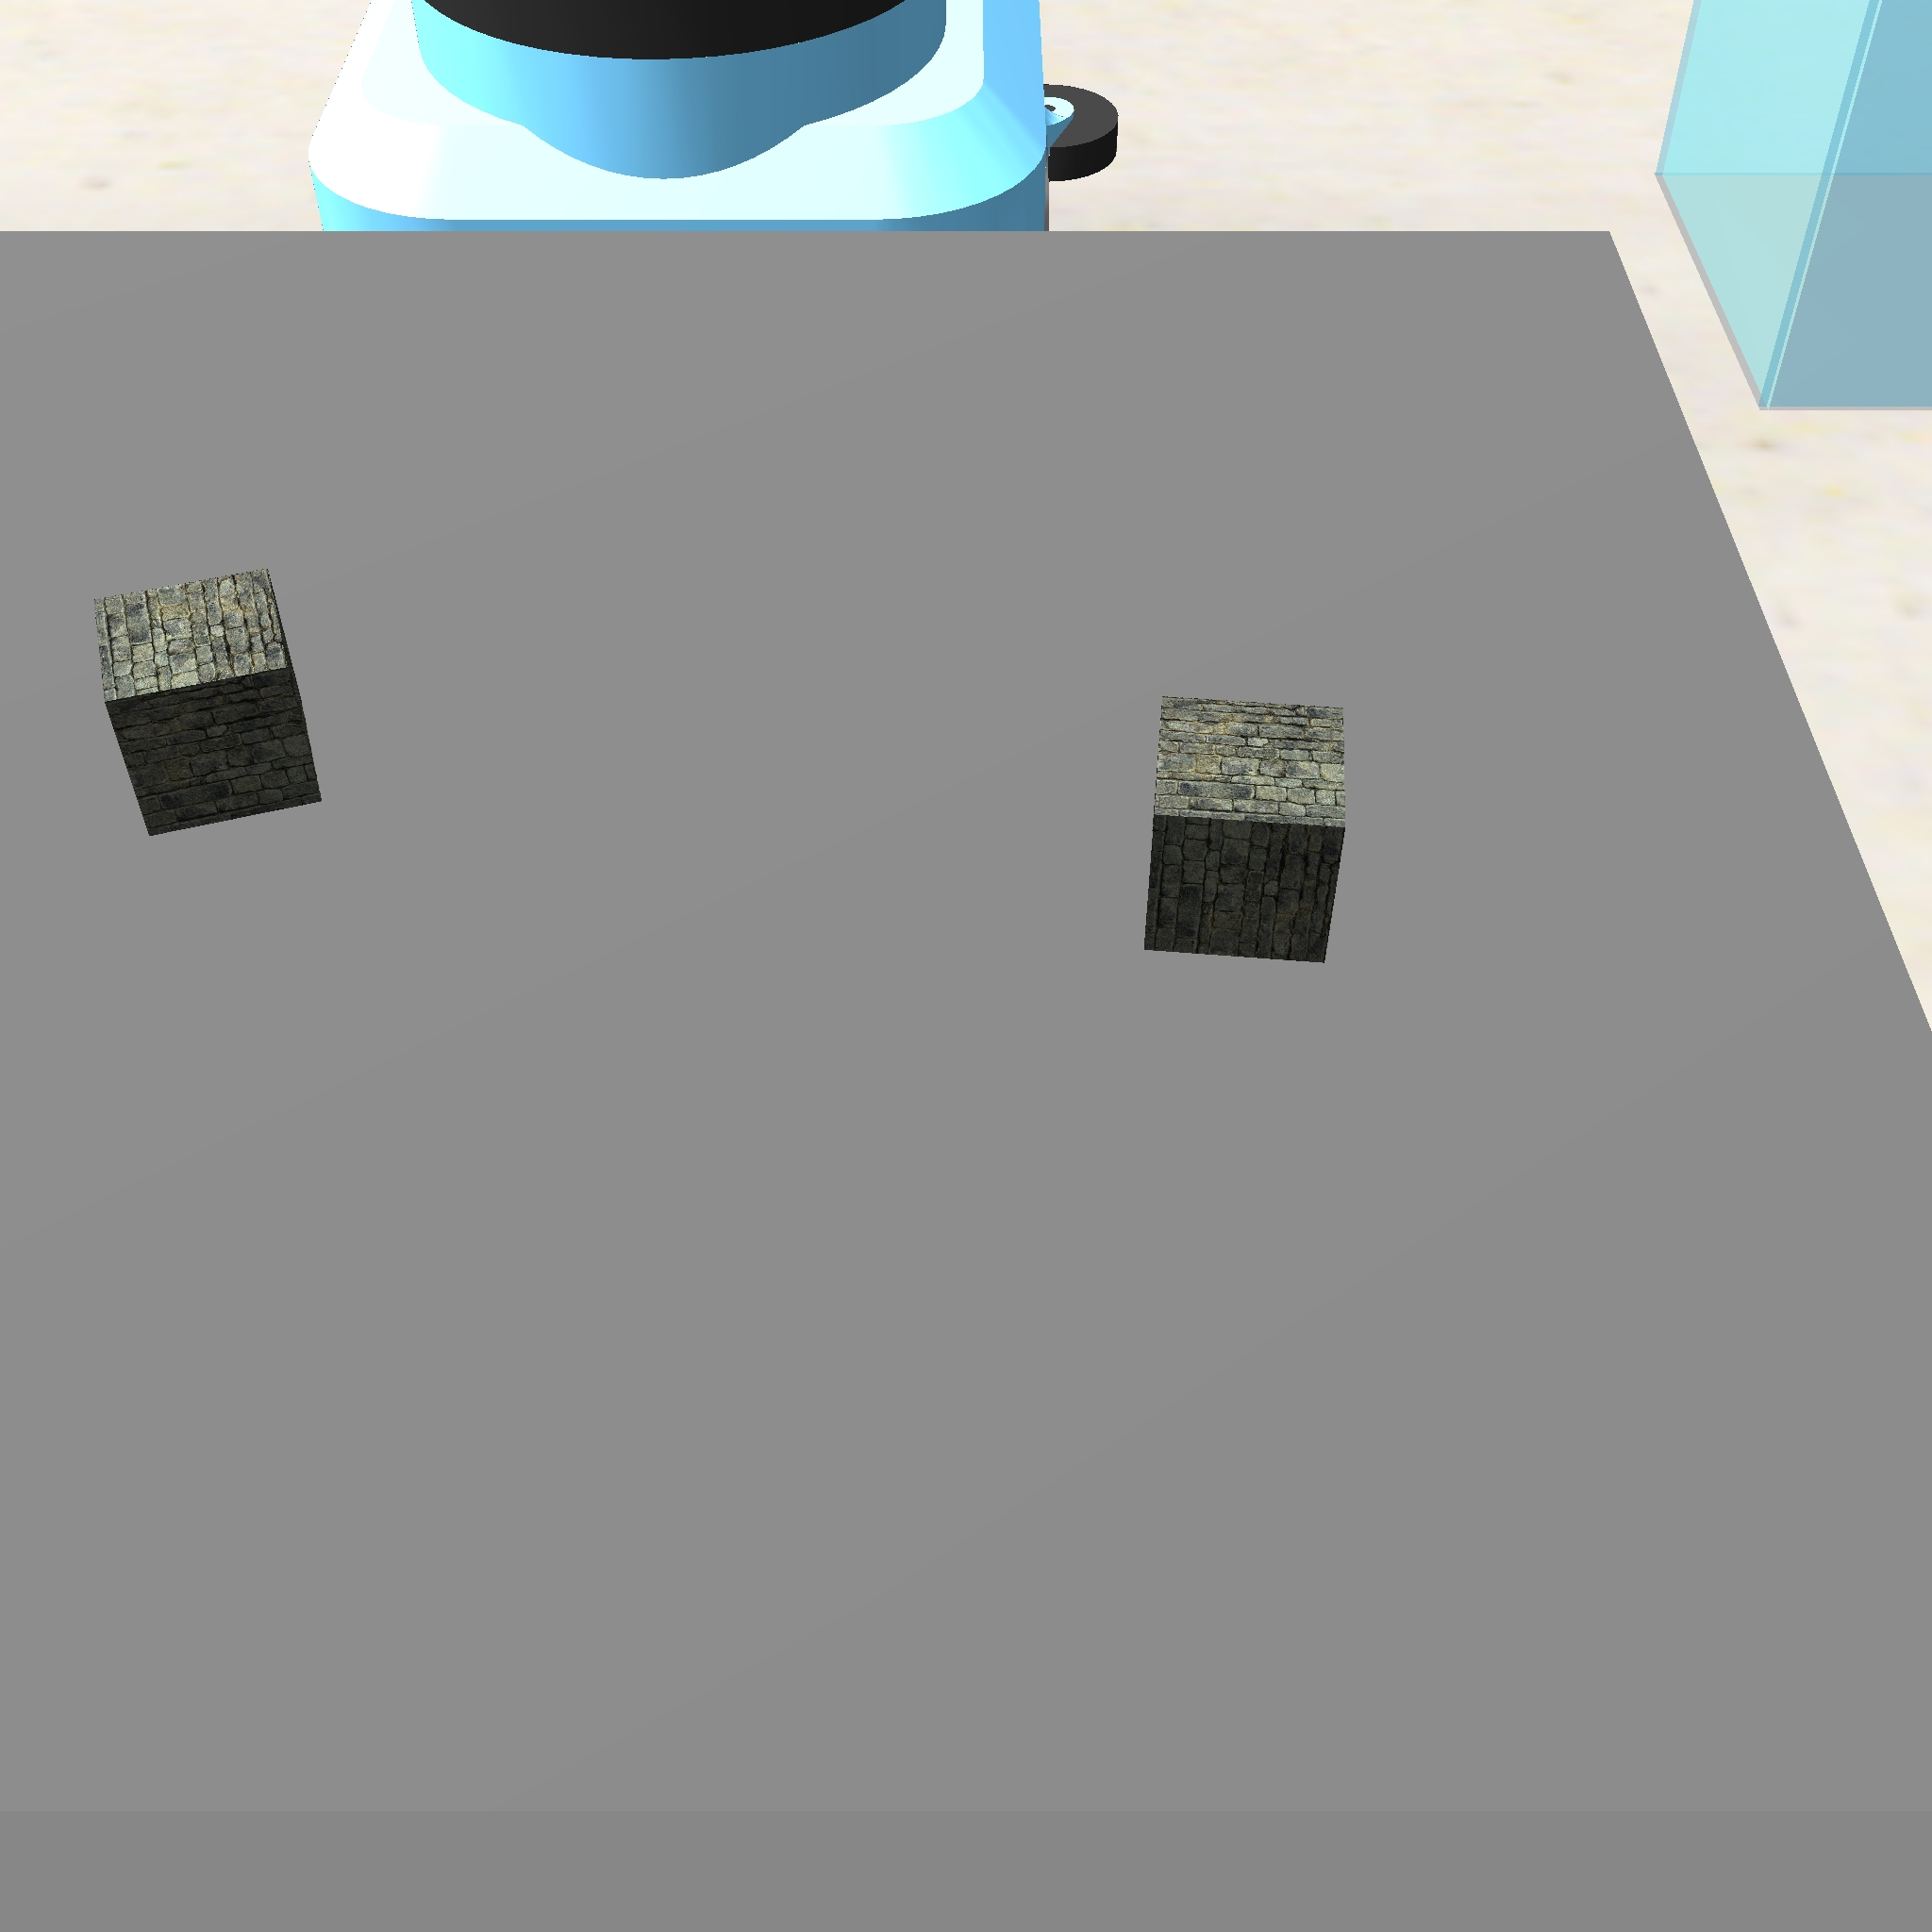cube: (80, 561, 331, 849), (1132, 683, 1355, 977)
